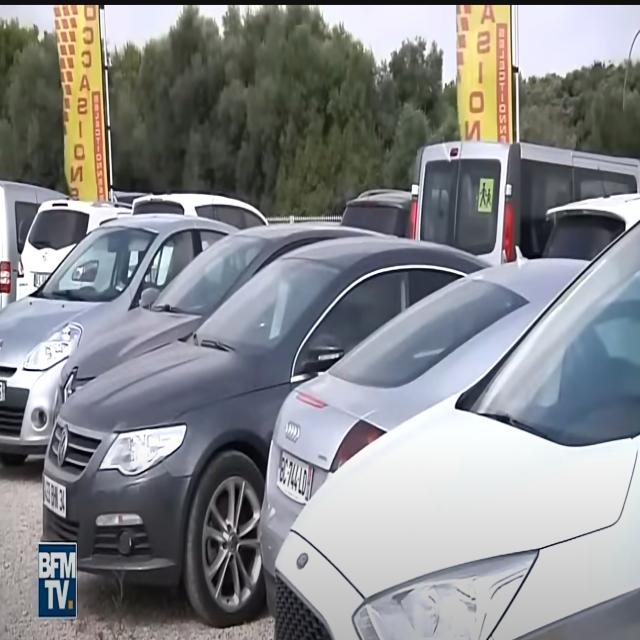Autre: (277, 444, 315, 514), (40, 472, 70, 518)
